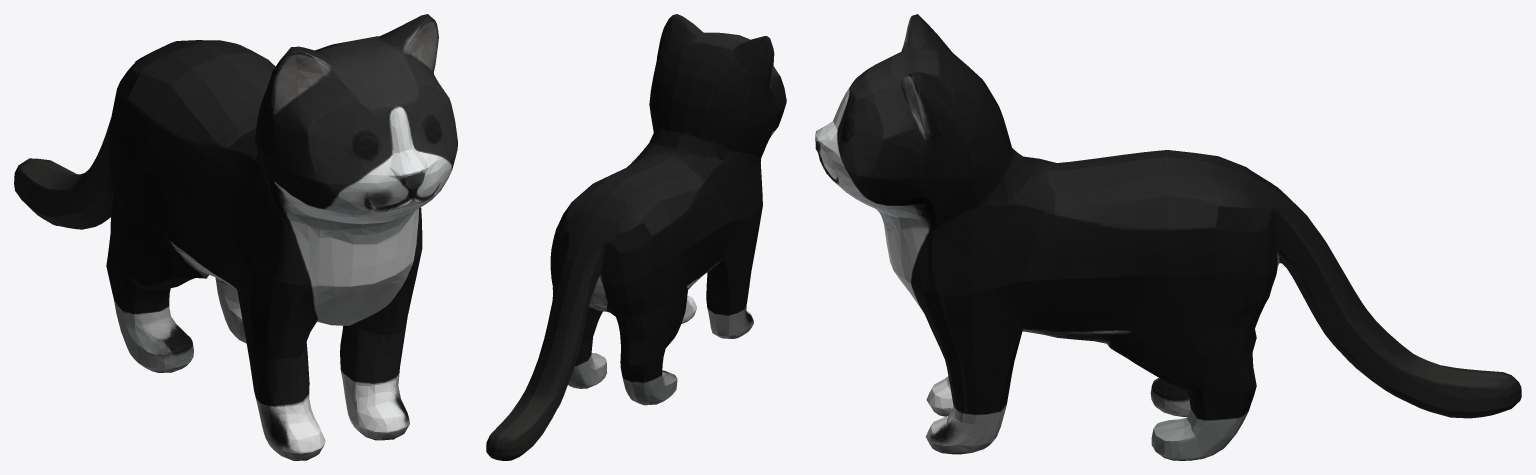
The model's file is model-pick-2.glb.
3 views of the same model, side by side, from view 1: azimuth 30°, elevation 25°; view 2: azimuth 150°, elevation 25°; view 3: azimuth 270°, elevation 25° (orthographic). The views are drawn at different scales.
Visible parts, largest first — view 1: geometry_0; view 2: geometry_0; view 3: geometry_0.
Part boxes in pixels (box(x1,y1,x2,y2)): geometry_0: box(14, 14, 457, 460); geometry_0: box(486, 14, 786, 460); geometry_0: box(815, 14, 1521, 460).
Size of the model in its own units: 0.2531 by 0.6083 by 0.9998.
1 material, 1 textured.
